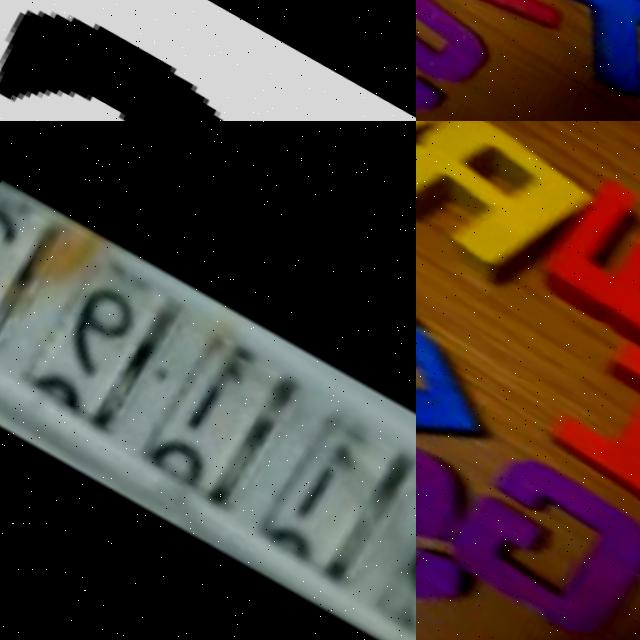1: (283, 413, 388, 539), (173, 330, 279, 449)
2: (0, 191, 41, 303)
9: (46, 264, 162, 392)
B: (416, 250, 501, 485)
C: (0, 6, 228, 121)
G: (437, 429, 640, 640)
I: (527, 317, 640, 555)
R: (416, 121, 602, 298)
S: (416, 379, 512, 621), (416, 0, 497, 116)
T: (539, 0, 640, 88)
U: (416, 0, 583, 35)
W: (523, 156, 640, 364)
